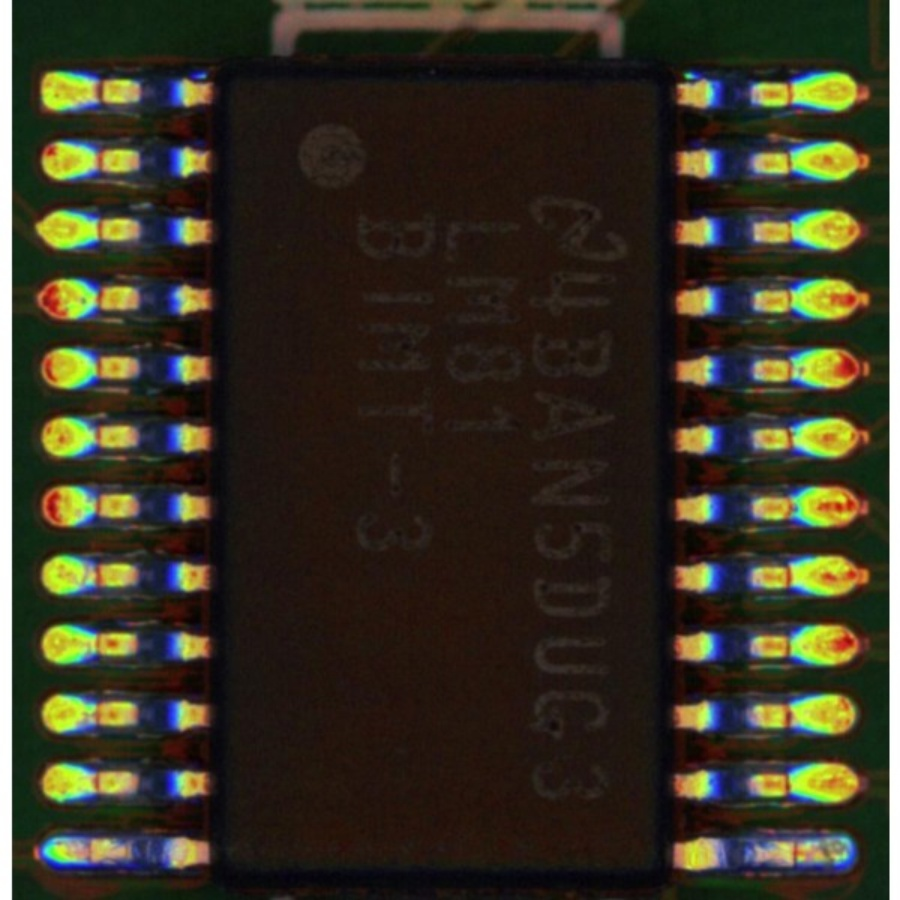Bad_podu: (74, 841, 103, 860), (783, 844, 810, 864)
